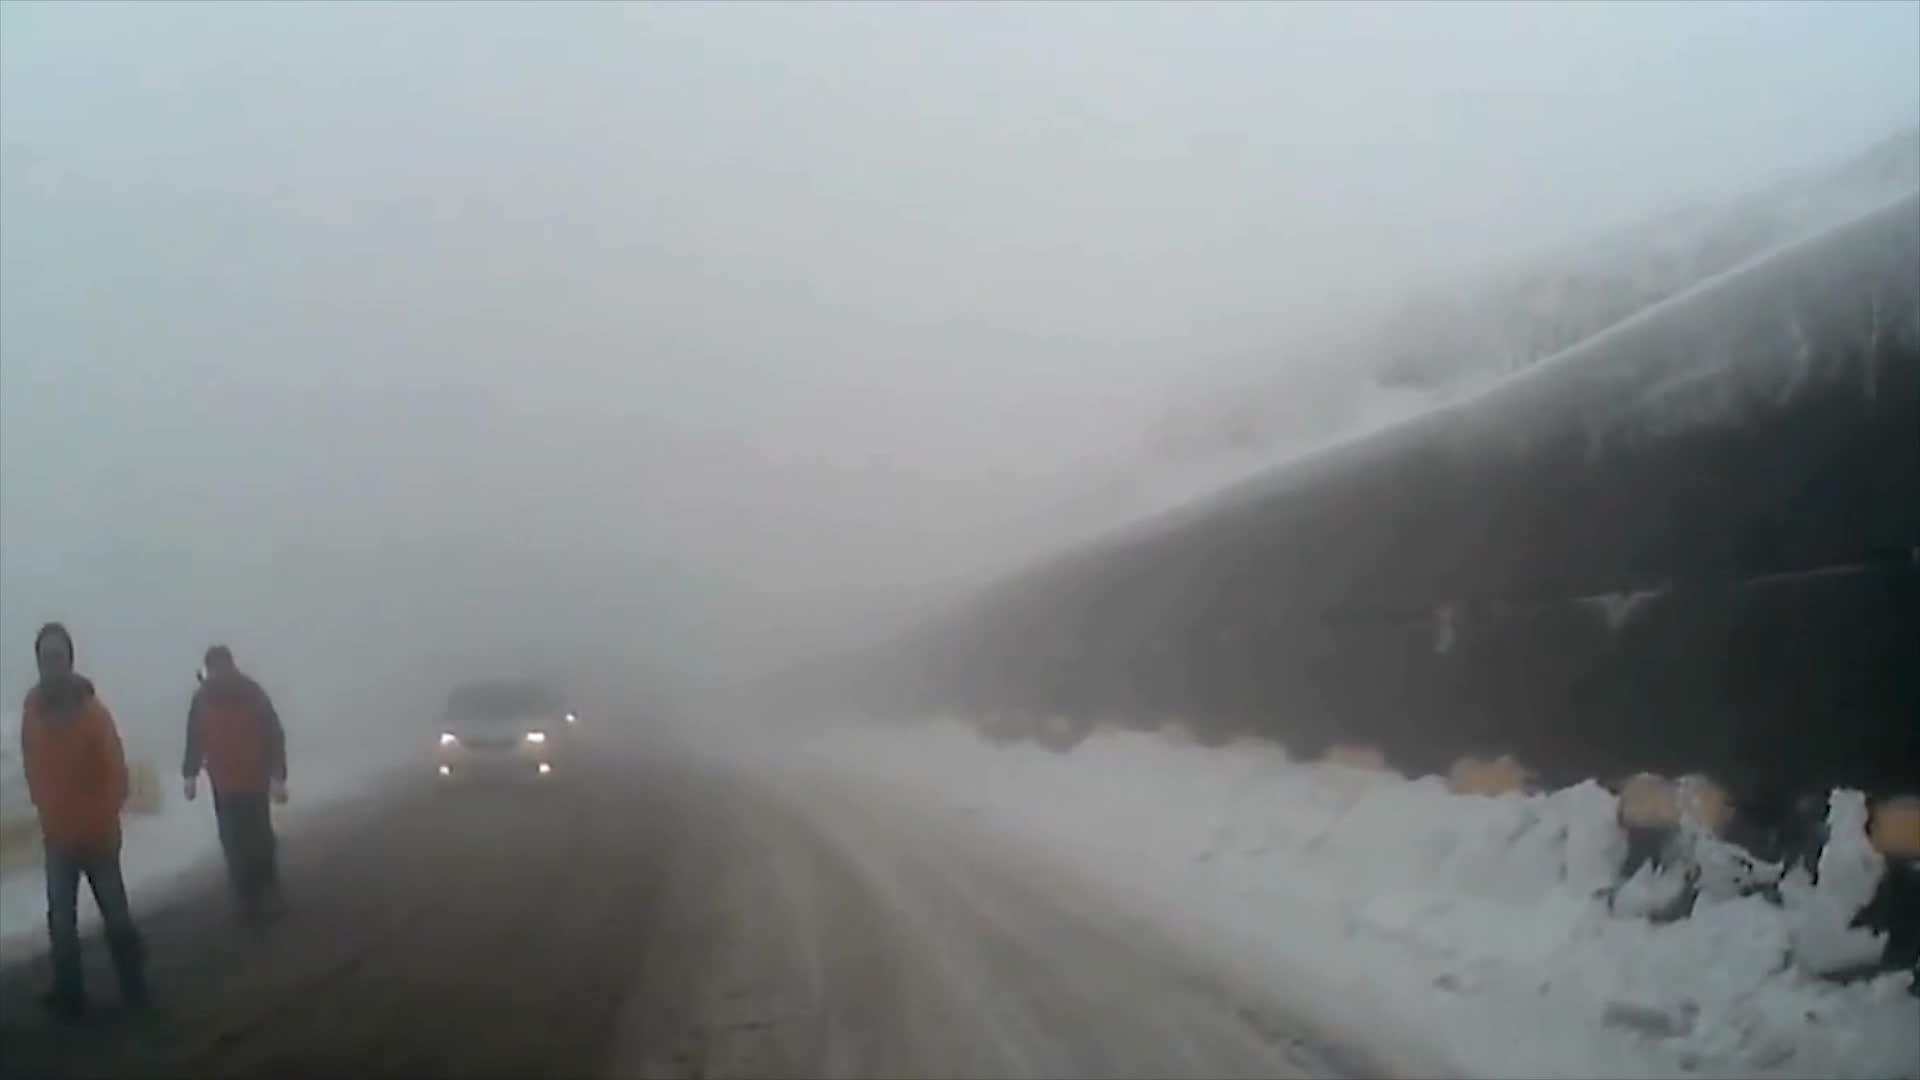pedestrian: (18, 616, 153, 1020), (183, 639, 295, 907)
vehicle: (429, 670, 572, 794)
